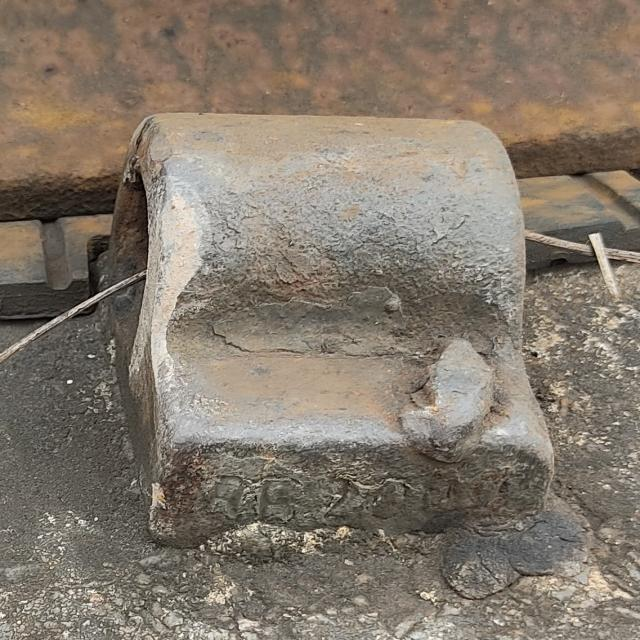track_bolt_missing: (101, 103, 535, 365)
